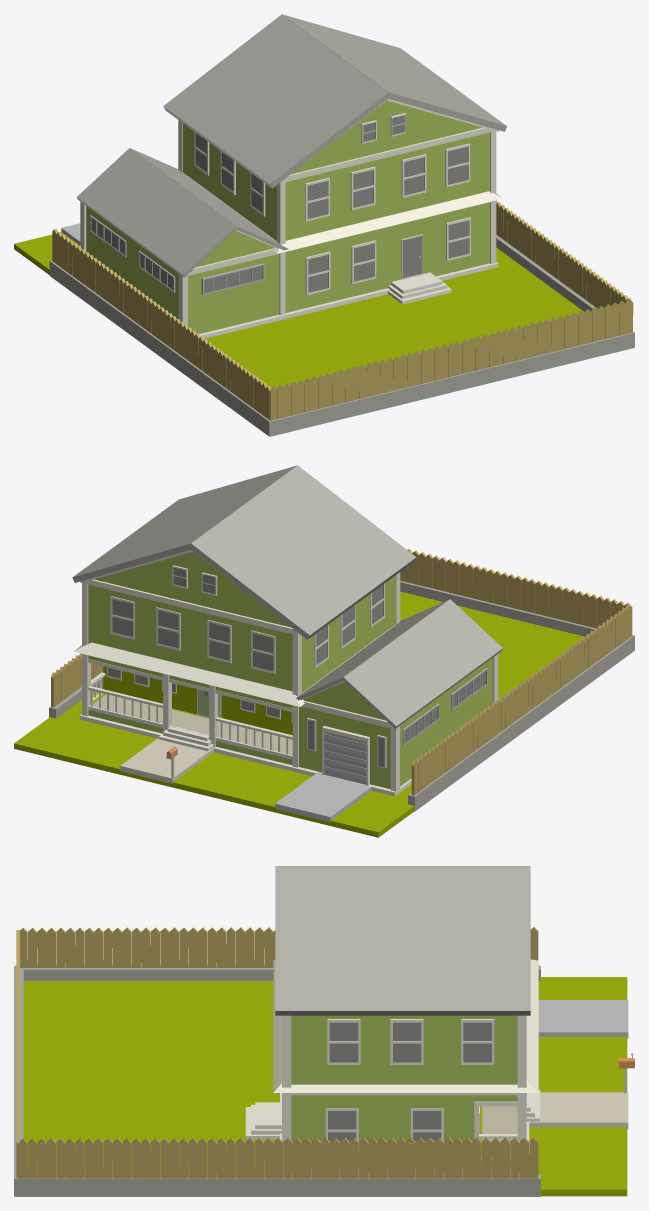
The model's file is house.fbx.
3 renders of one model, top to bottom at view 1: azimuth 30°, elevation 25°; view 2: azimuth 150°, elevation 25°; view 3: azimuth 270°, elevation 25°, orthographic. The views are drawn at different scales.
Parts seen in each view (by area): view 1: Cube_27; view 2: Cube_27; view 3: Cube_27.
Boxes of the visible parts, bbox=[...] form: Cube_27: bbox=[14, 14, 634, 436]; Cube_27: bbox=[14, 465, 634, 837]; Cube_27: bbox=[14, 866, 634, 1196].
Bounding box in the file's own units: 2228 × 1219 × 2738.
